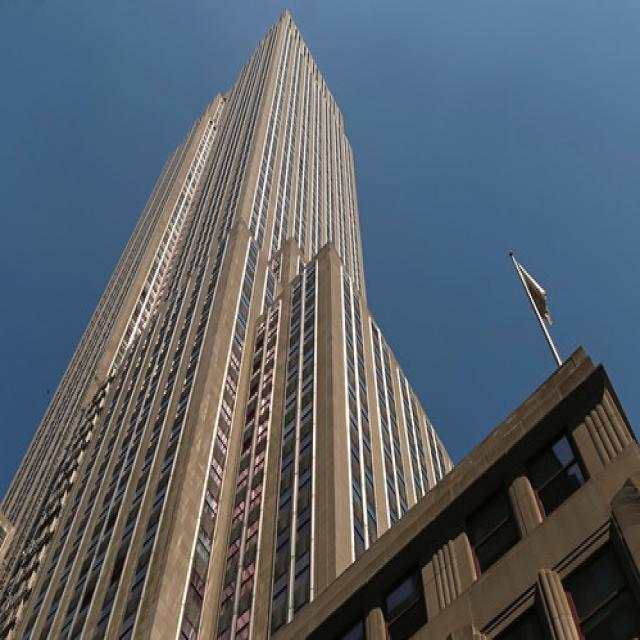building: (1, 6, 377, 640)
